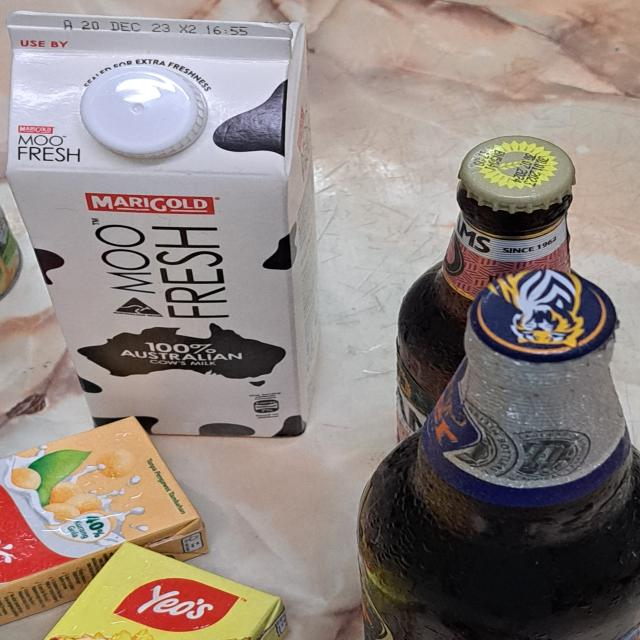drink carton: (6, 12, 320, 440), (0, 414, 207, 622)
glass bottle: (353, 267, 640, 640), (396, 134, 573, 444)
plastic bottle cap: (84, 63, 207, 160)
